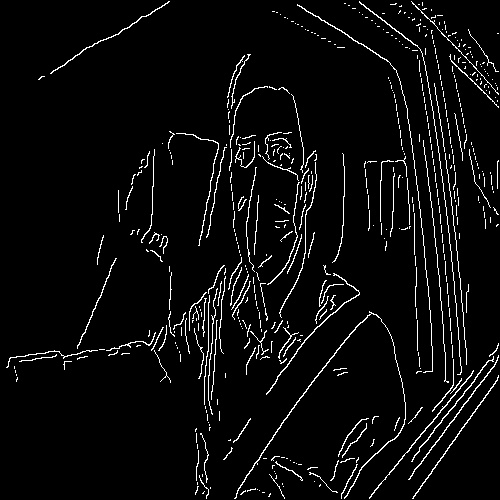mask: (229, 164, 298, 270)
